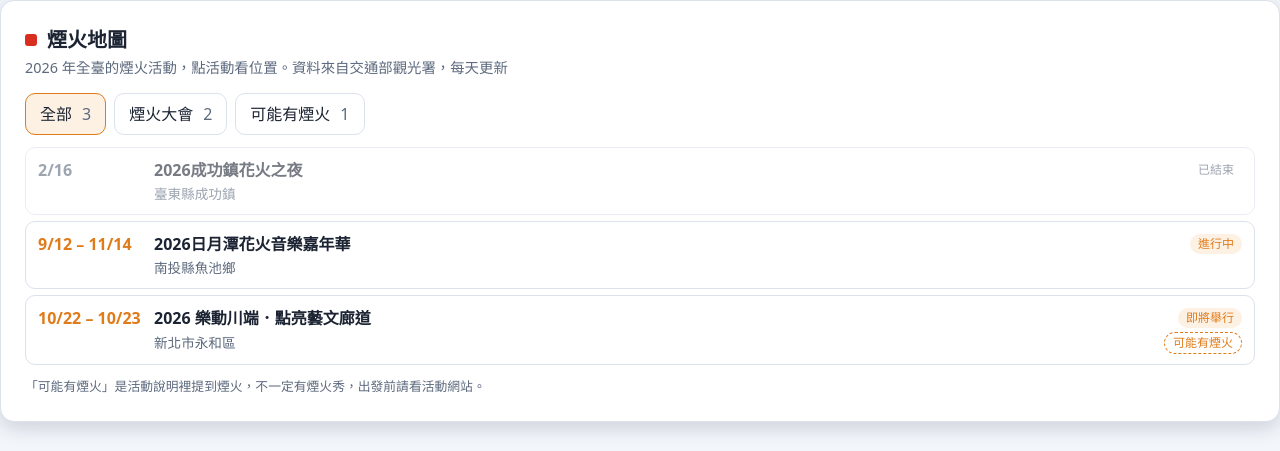
Scenario: FireworksMap › filters by kind and shows the counts
Click the button "可能有煙火 1".
click(300, 114)  # box [235,93,364,135]
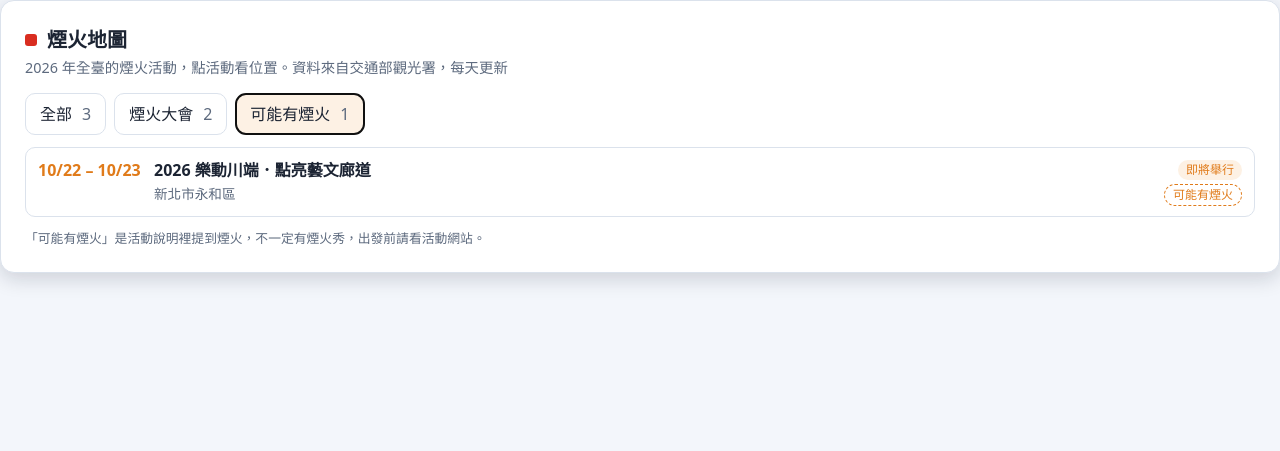
Expected: the number of list items is 1, [25,147,1255,217]
